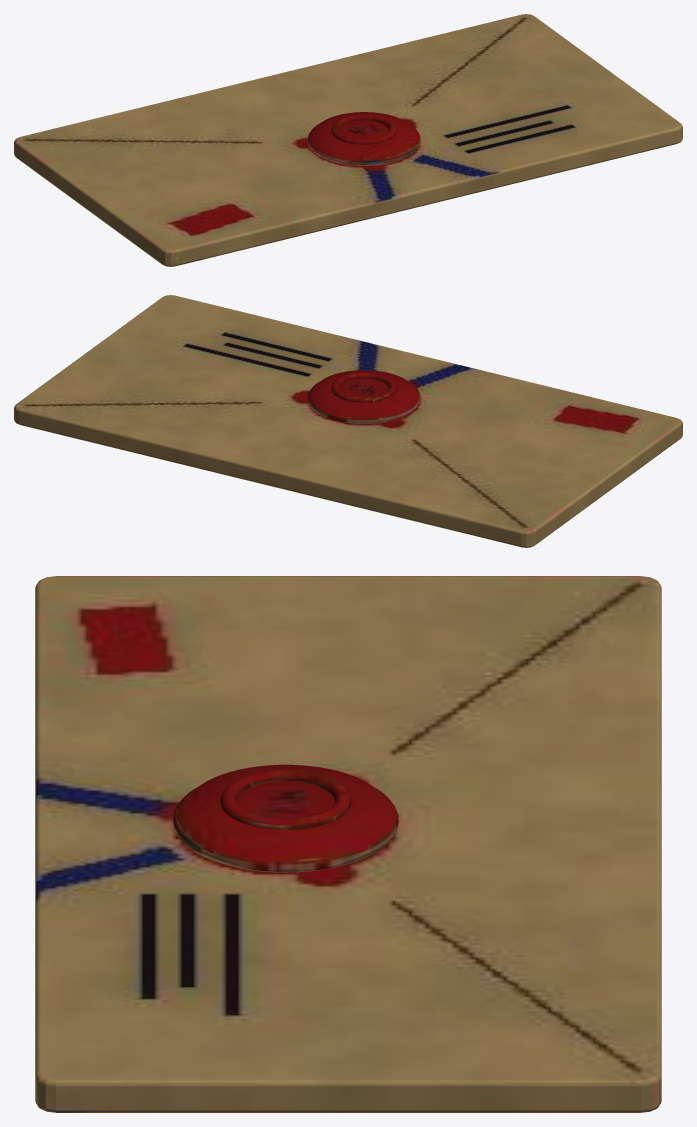
Rendered from sealed_filing.glb.
3 views of the same model, one above another, from view 1: azimuth 30°, elevation 25°; view 2: azimuth 150°, elevation 25°; view 3: azimuth 270°, elevation 25° (orthographic). The views are drawn at different scales.
Parts seen in each view (by area): view 1: sealed_filing; view 2: sealed_filing; view 3: sealed_filing.
Part boxes in pixels (x1,y1,x2,y2): sealed_filing: (14, 14, 682, 266); sealed_filing: (14, 295, 682, 547); sealed_filing: (35, 576, 661, 1112).
Size of the model in its own units: 0.23 by 0.0141 by 0.12.
1 material, 1 textured.
